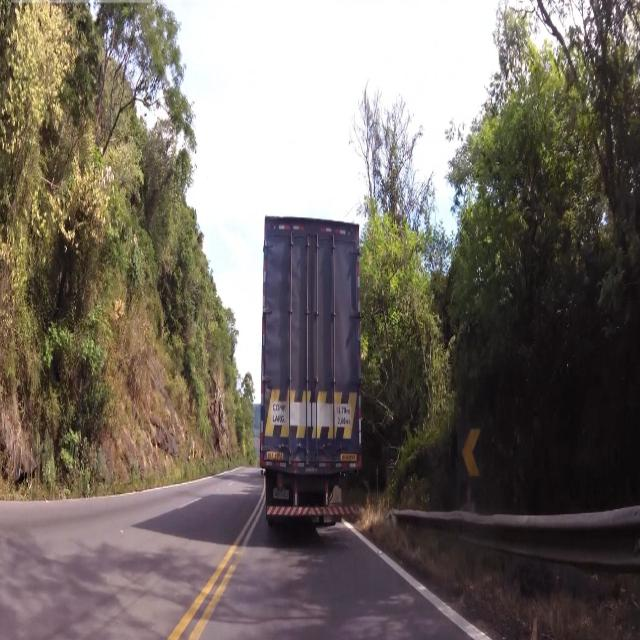Del: (458, 420, 482, 488)
